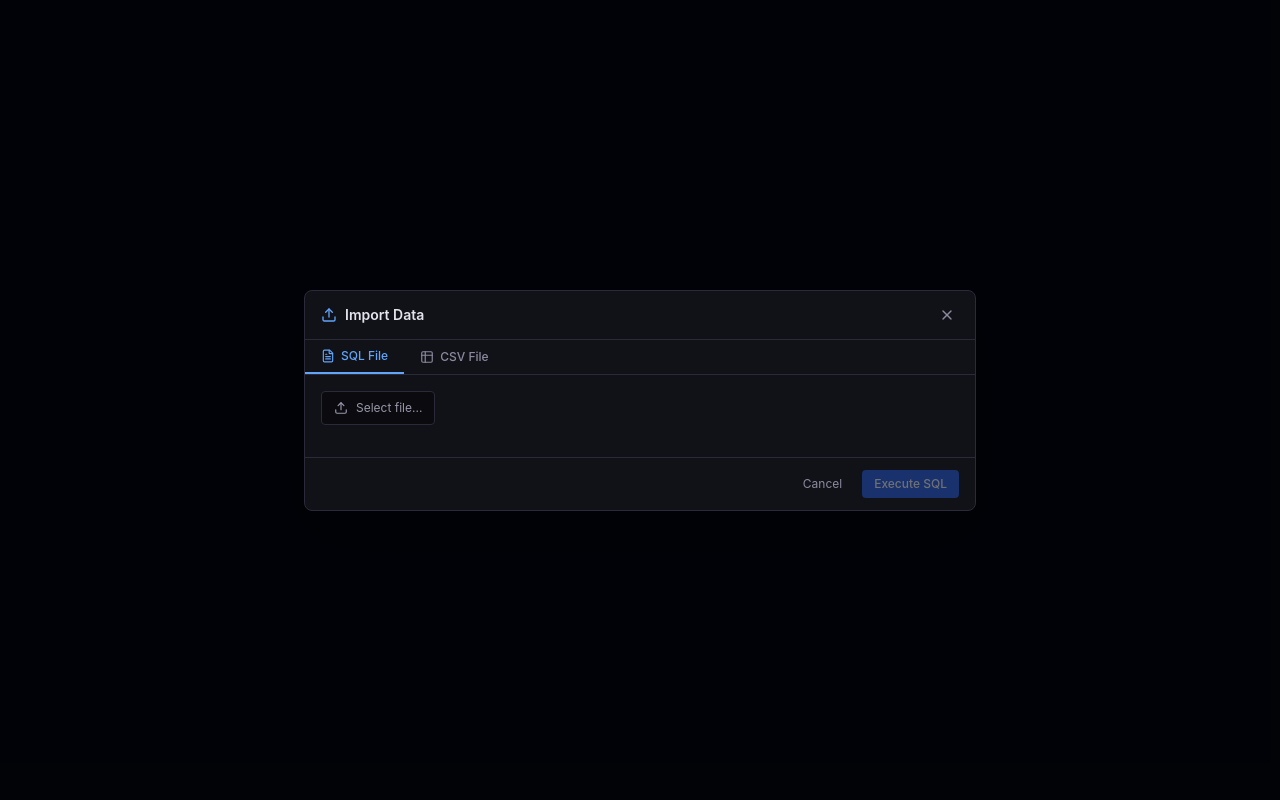
Test case: ImportDialog › SQL mode › says where it stopped and whether anything stands
This screenshot has width=1280, height=800.
Click the button "Select file..." at (378, 408), box [321, 390, 435, 424]
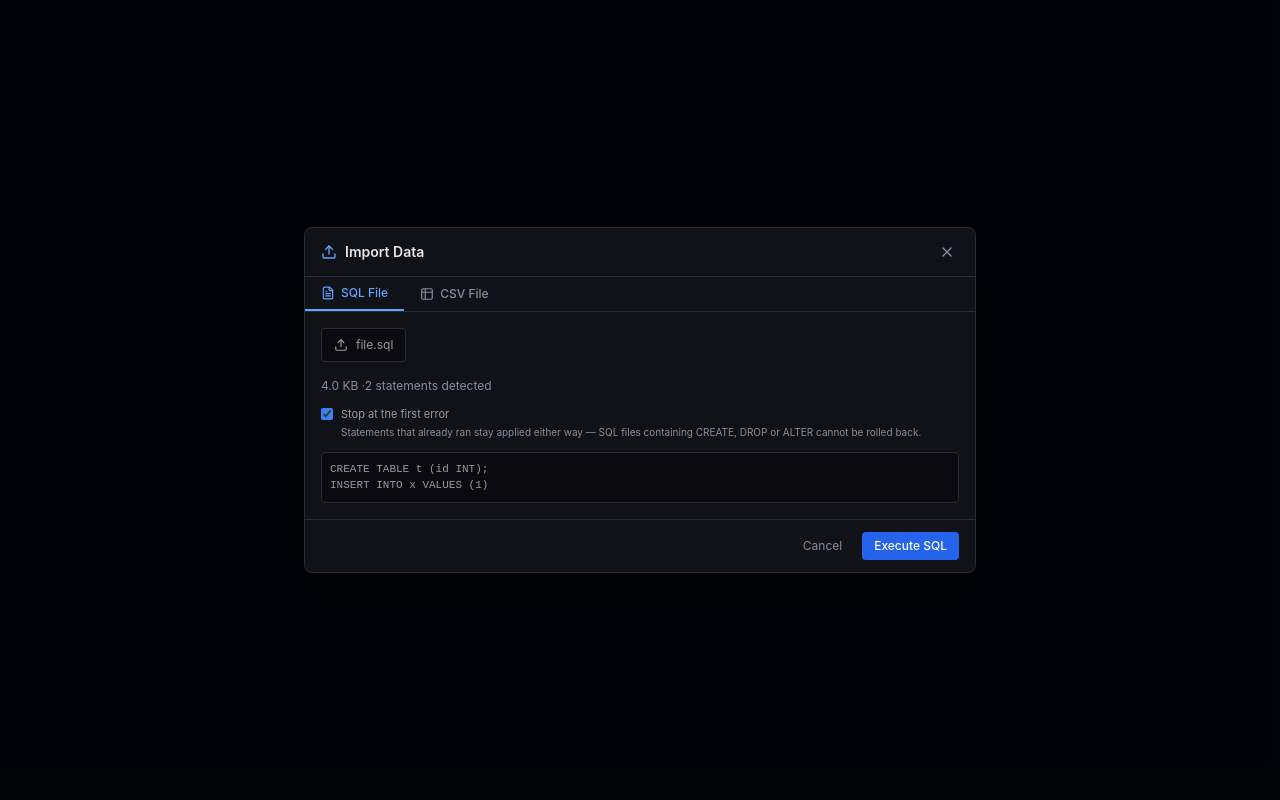
Click the button "Execute SQL" at (911, 546), box [862, 532, 959, 560]
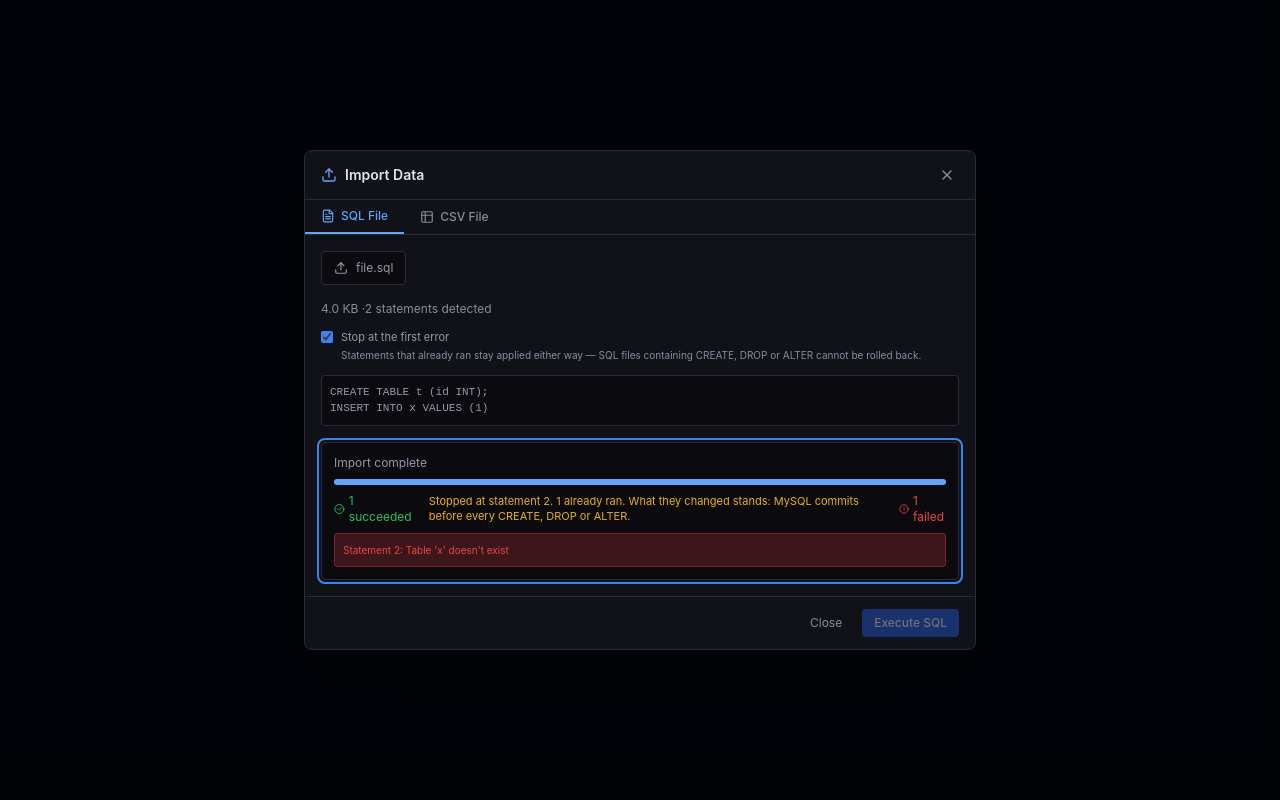
Check: the text with test id "stopped-at" shows "statement 2", box [429, 494, 883, 523]
Check: the text with test id "stopped-at" shows "1 already ran", box [429, 494, 883, 523]
Check: the text with test id "stopped-at" shows "MySQL commits before every CREATE", box [429, 494, 859, 523]
